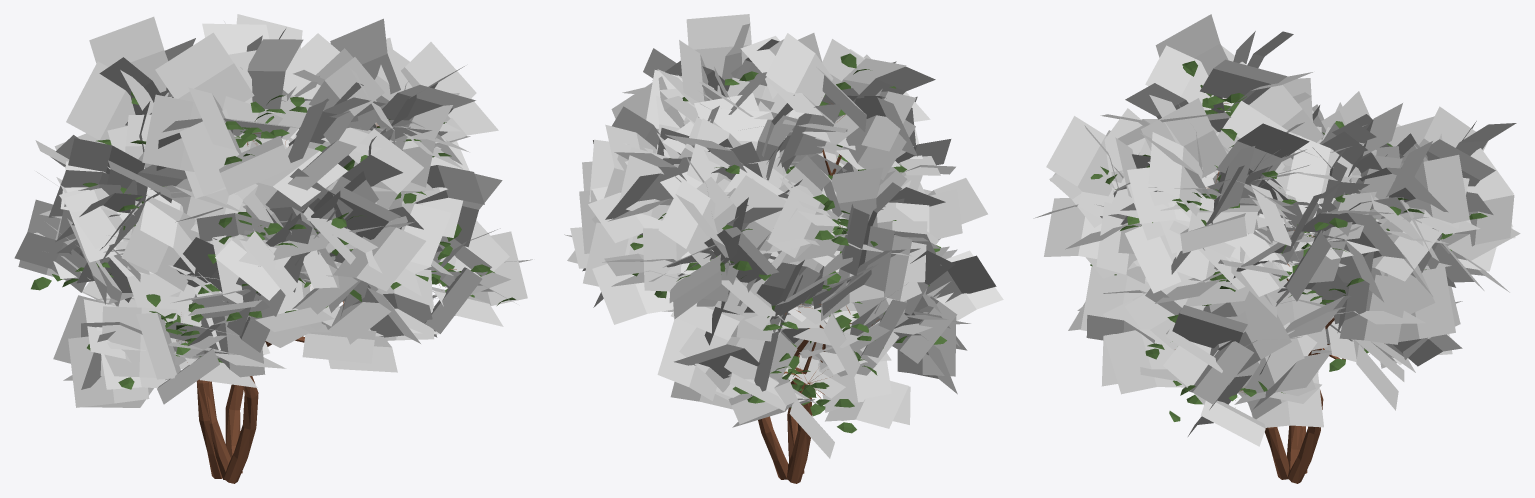
File: Arbousier_Dense_LOD1.fbx
3 renders of one model, left to right at view 1: azimuth 30°, elevation 25°; view 2: azimuth 150°, elevation 25°; view 3: azimuth 270°, elevation 25°, orthographic. The views are drawn at different scales.
Visible parts, largest first — view 1: Arbousier_Dense_LOD1; view 2: Arbousier_Dense_LOD1; view 3: Arbousier_Dense_LOD1.
Part boxes in pixels (bbox=[...]): Arbousier_Dense_LOD1: bbox=[14, 14, 532, 483]; Arbousier_Dense_LOD1: bbox=[564, 14, 1003, 483]; Arbousier_Dense_LOD1: bbox=[1033, 14, 1520, 483].
Size of the model in its own units: 390 by 392 by 396.
